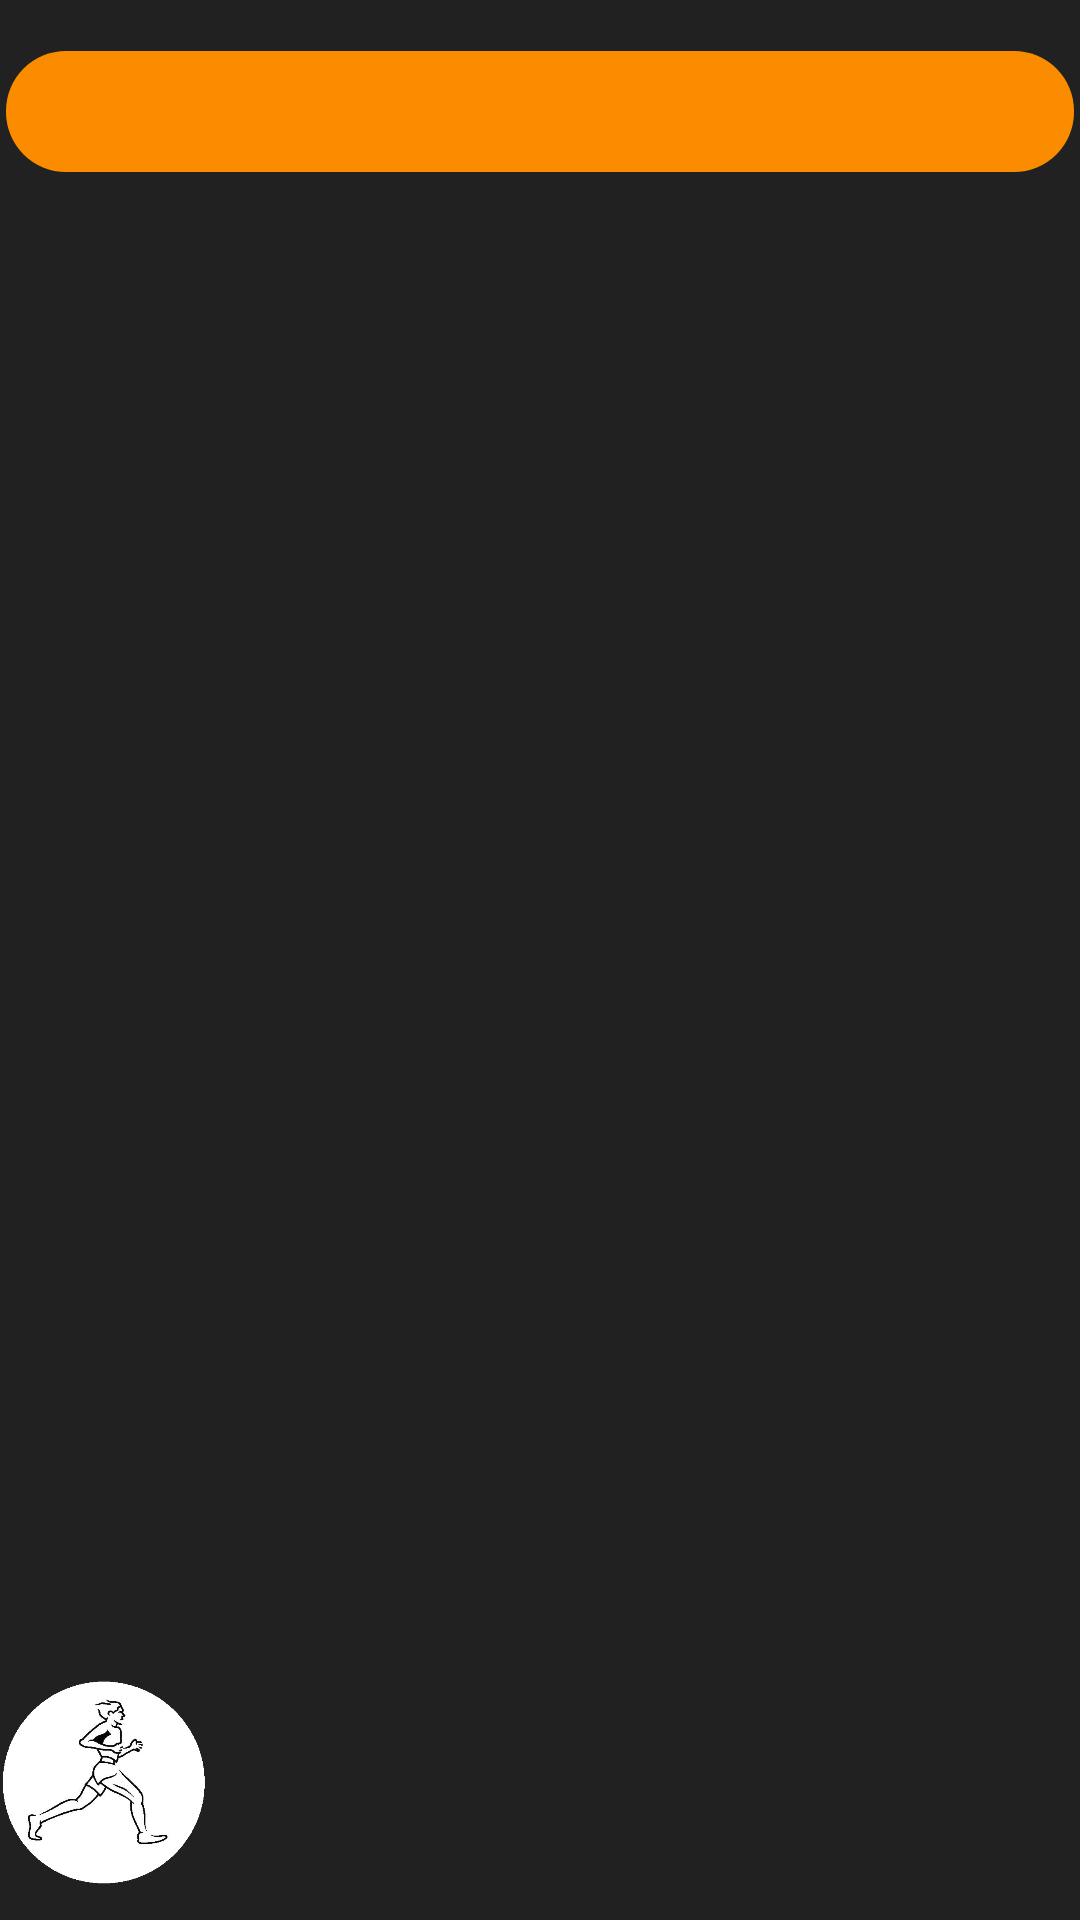

Icon bounding boxes for this 1080w x 1920h phone screenshot, format (x1, y1, x2, y2):
biegaczz: (3, 1681, 205, 1884)
